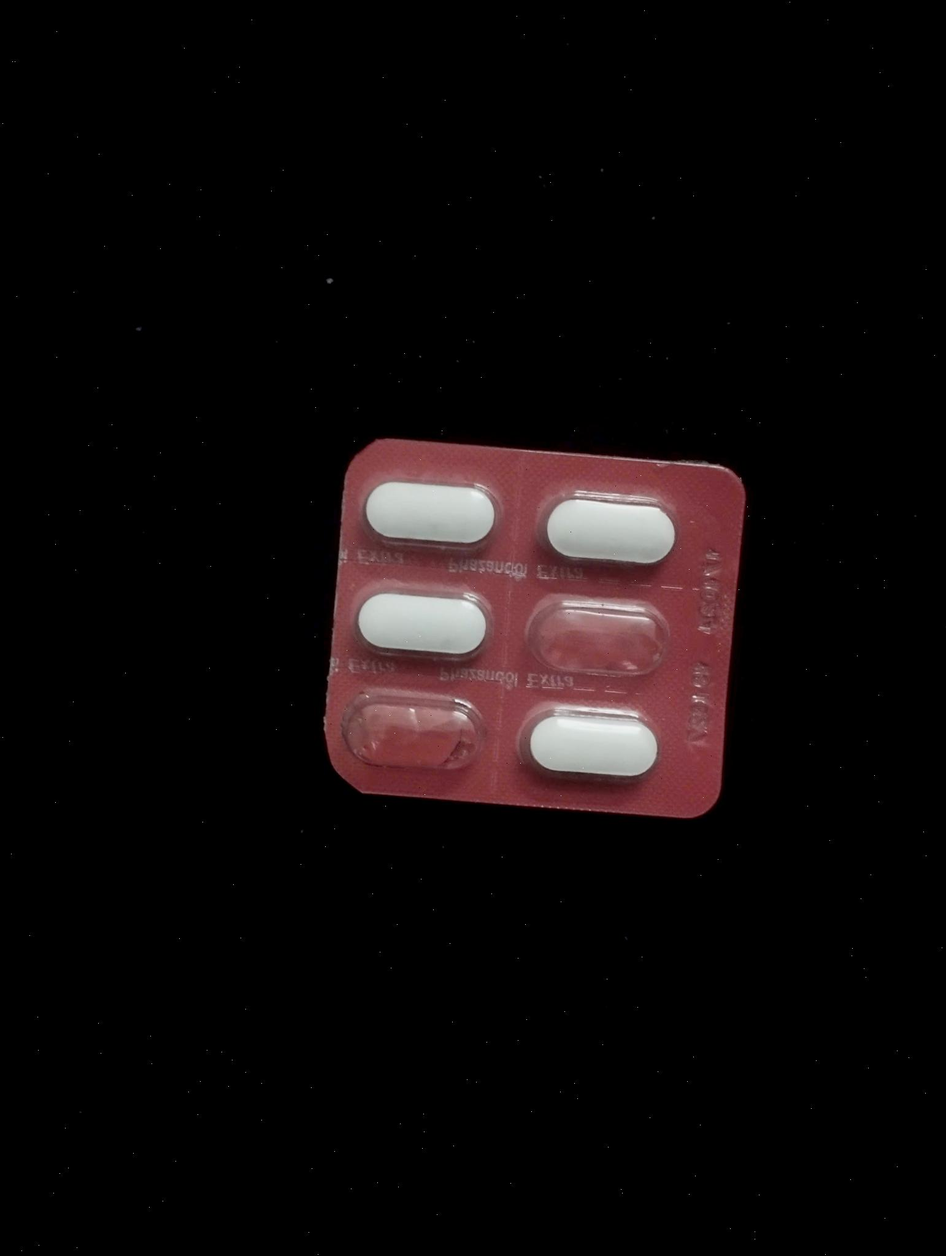Empty: (521, 590, 675, 687), (333, 686, 487, 778)
Full: (360, 455, 514, 558), (520, 694, 669, 794), (539, 478, 685, 580), (346, 576, 496, 669)
